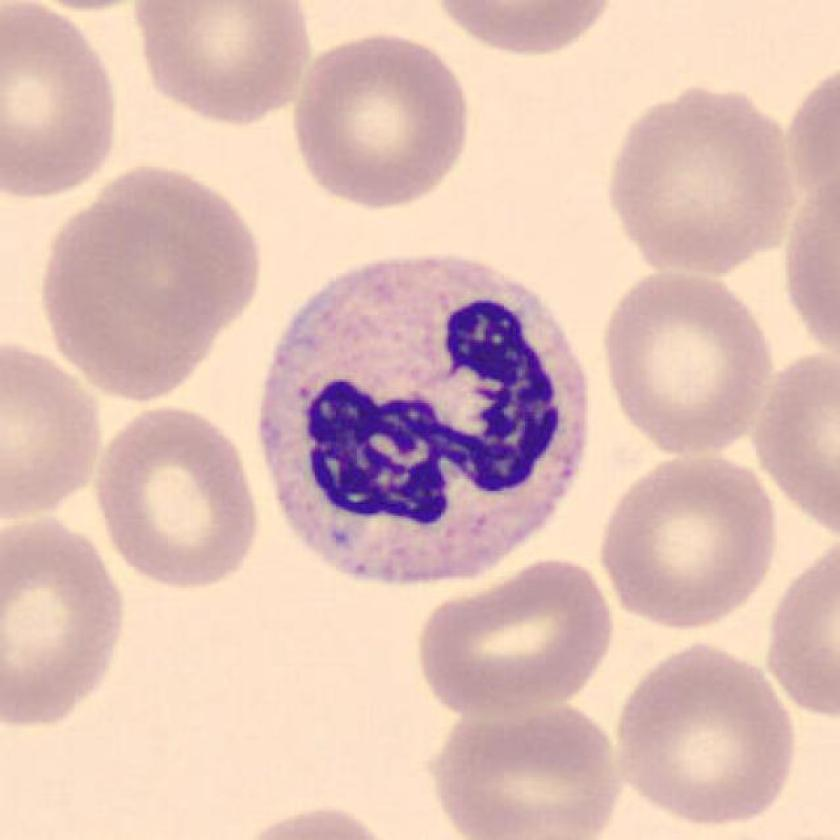neutrophil: (260, 256, 587, 579)
